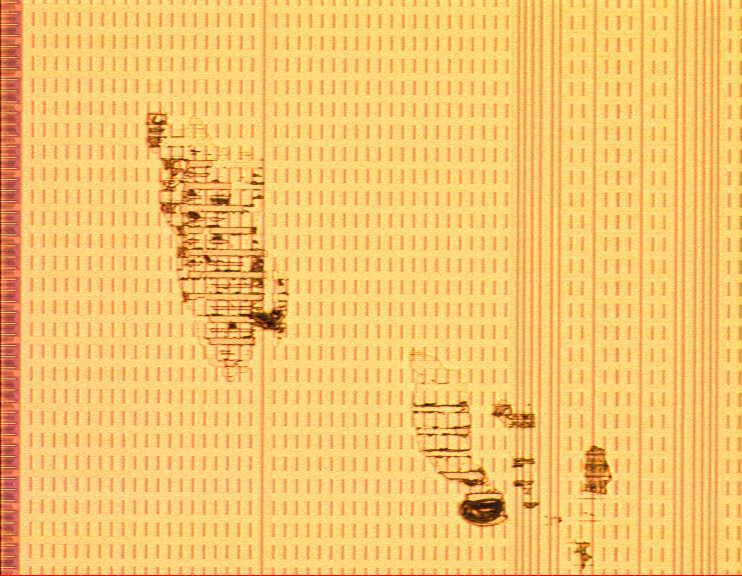SCRATCH: (128, 111, 636, 576)
